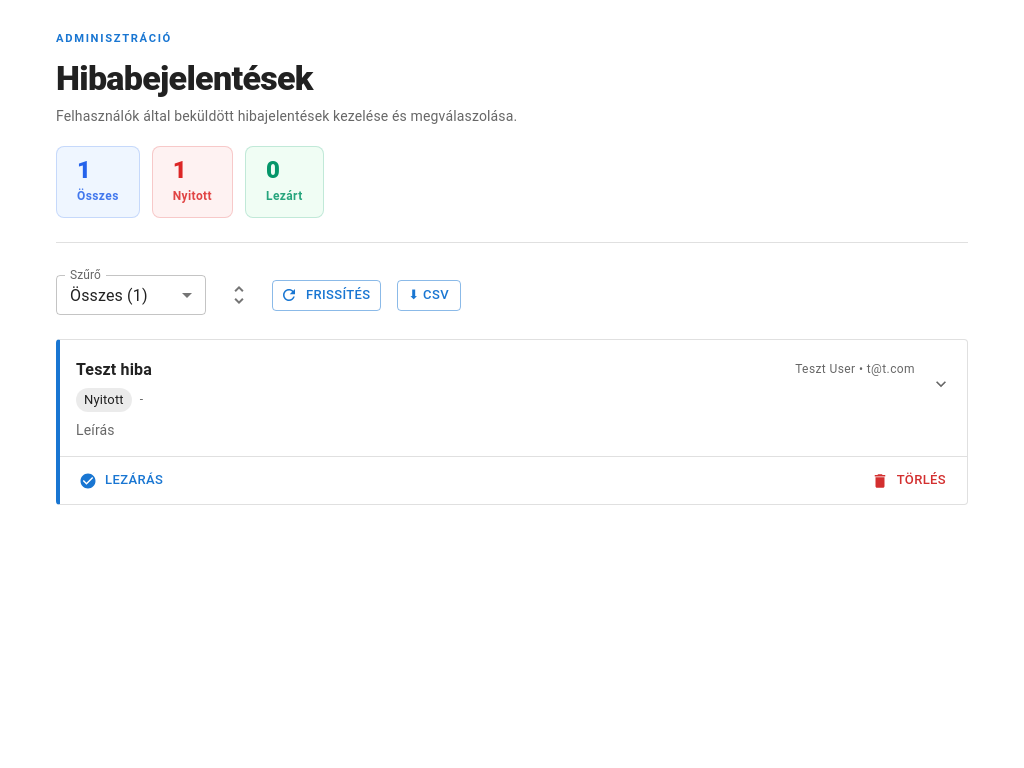
Test: BugReports › toggle status shows Hibajelentés lezárva snackbar for open report
Click the button "Lezárás" at (122, 481), box [76,465,168,496]
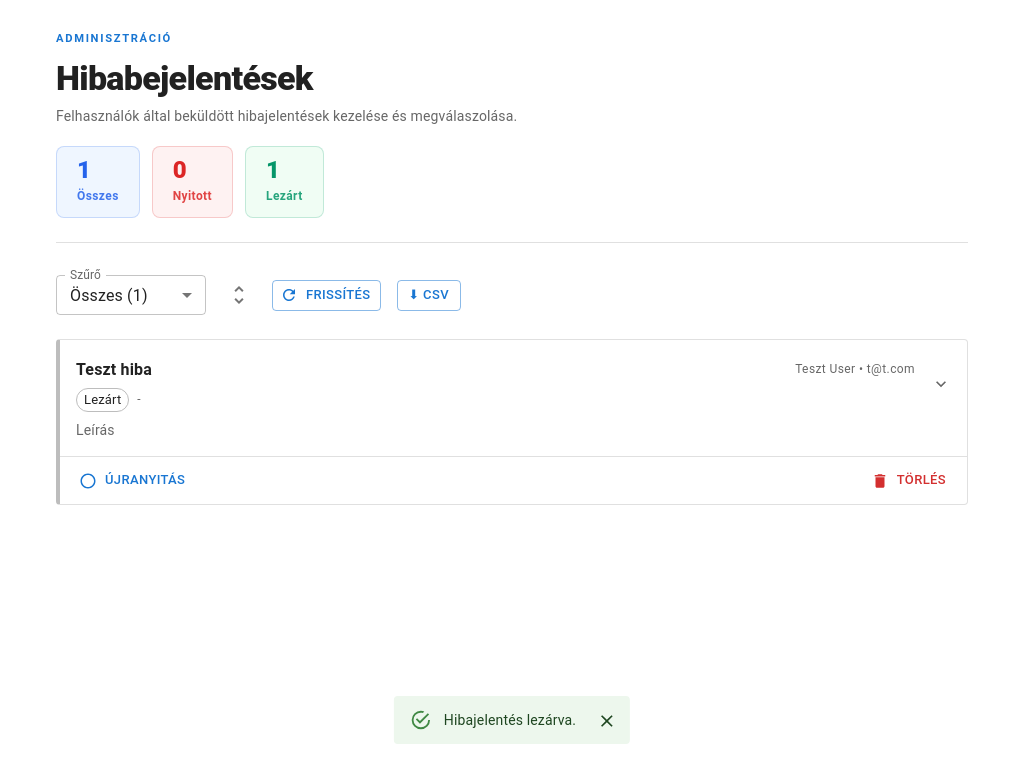
Expected: the text "Hibajelentés lezárva." is shown, [444,712,576,728]
